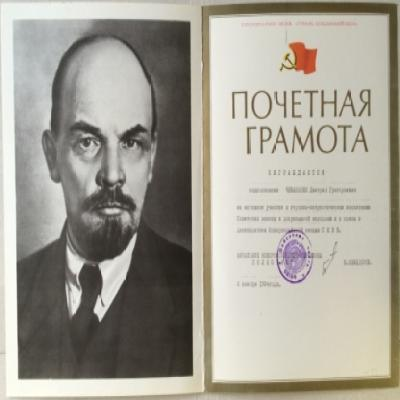document: (6, 4, 397, 392)
